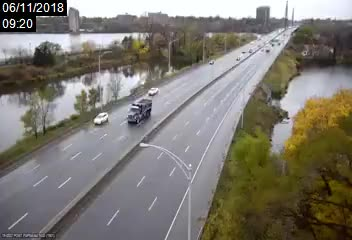personal_car: (94, 112, 109, 127), (147, 88, 159, 96), (207, 59, 214, 66), (235, 55, 240, 61)
truck: (127, 96, 153, 124)
